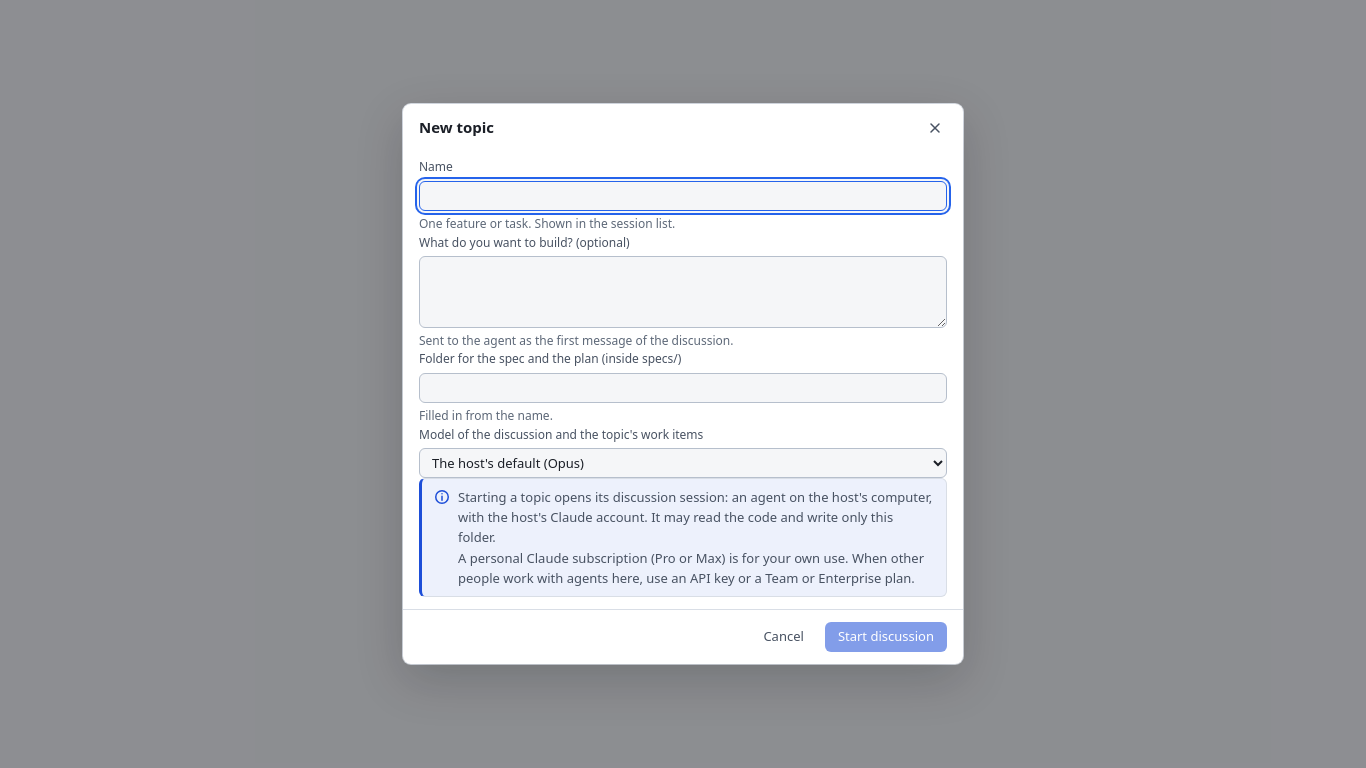
New topic: whose Claude account works › the host is told that a personal subscription is for their own use (the owner's decision Q6); nothing is blocked
Expected: the text "Starting a topic opens its discussion session: an agent on the host's computer, with the host's Claude account. It may r" is shown, left=458, top=488, right=932, bottom=546
Expected: the text "A personal Claude subscription (Pro or Max) is for your own use. When other people work with agents here, use an API key" is shown, left=458, top=548, right=924, bottom=587
In the field labelled "Name": (683, 196) left=419, top=181, right=947, bottom=211, type "Checkout redesign"
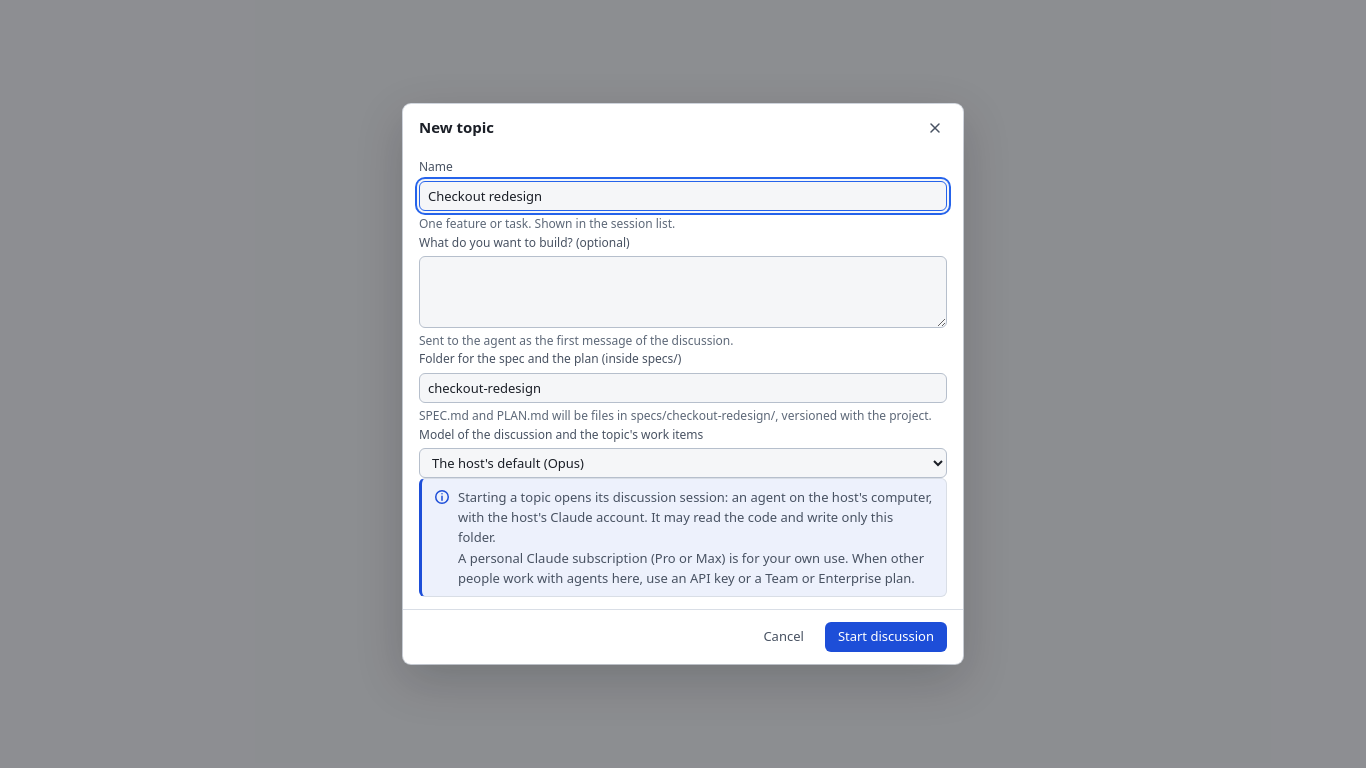
Now the button "Start discussion" is enabled, box left=825, top=622, right=947, bottom=652
